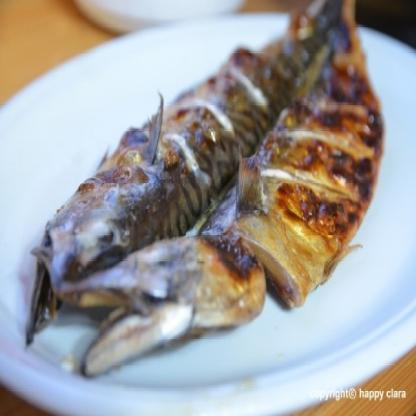Peixe: (17, 0, 380, 384)
